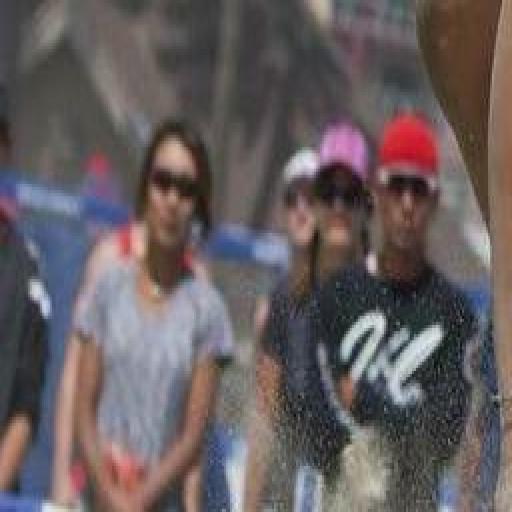person: (316, 114, 475, 511), (76, 120, 231, 511), (244, 123, 369, 511), (418, 0, 511, 508), (0, 206, 51, 490)
